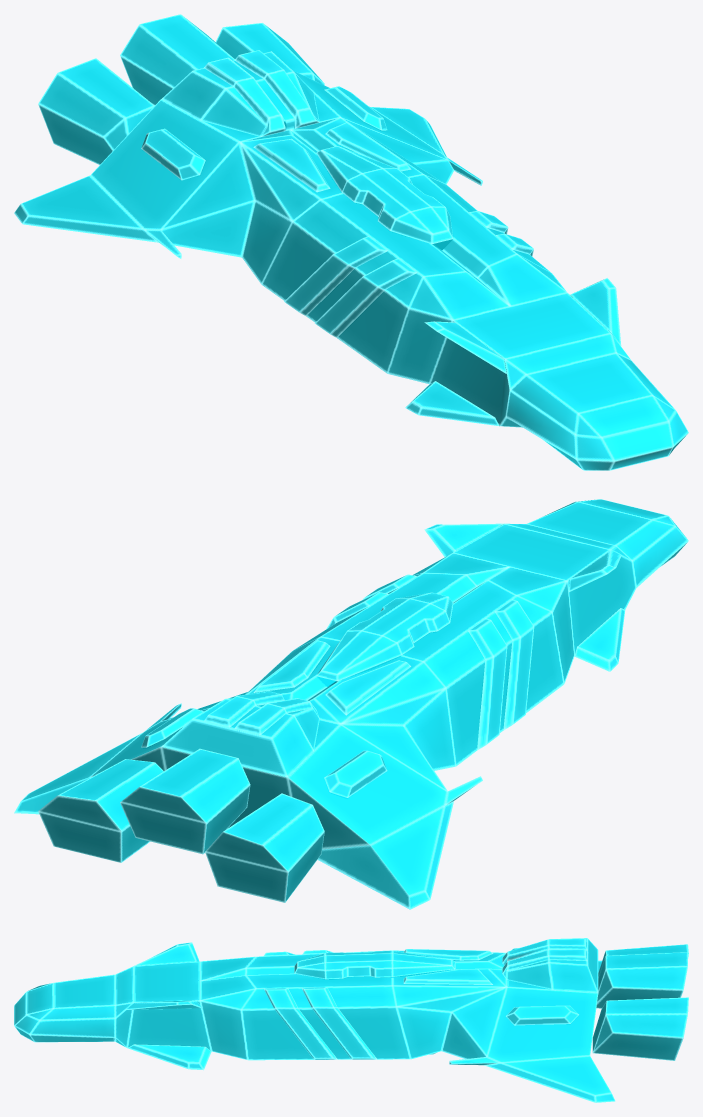
File: ally_battlecruiser.FBX
3 views of the same model, one above another, from view 1: azimuth 30°, elevation 25°; view 2: azimuth 150°, elevation 25°; view 3: azimuth 270°, elevation 25° (orthographic). The views are drawn at different scales.
Visible parts, largest first — view 1: Battlecruiser_player; view 2: Battlecruiser_player; view 3: Battlecruiser_player.
Part boxes in pixels (<box>): Battlecruiser_player: <box>14,14,688,470</box>; Battlecruiser_player: <box>14,499,688,909</box>; Battlecruiser_player: <box>14,938,688,1102</box>.
Bounding box in the file's own units: 131 × 42.97 × 270.
